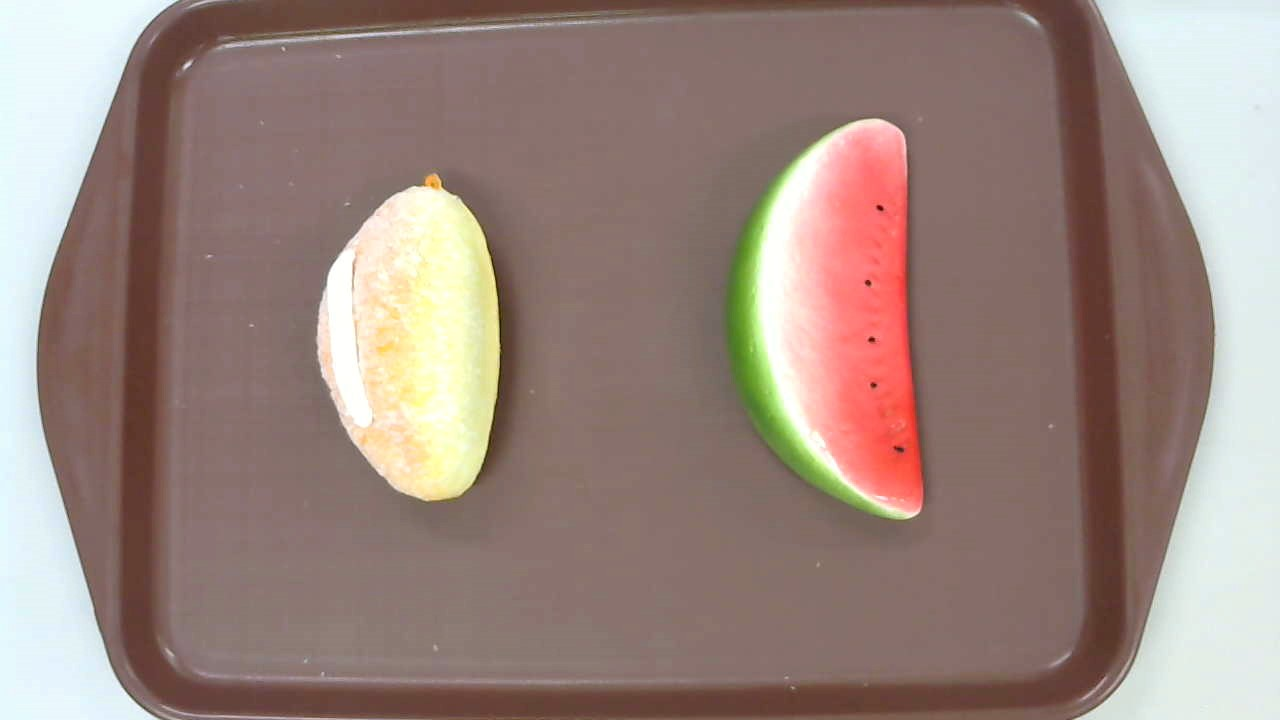coconut: (315, 174, 500, 498)
water melon: (724, 118, 926, 520)
